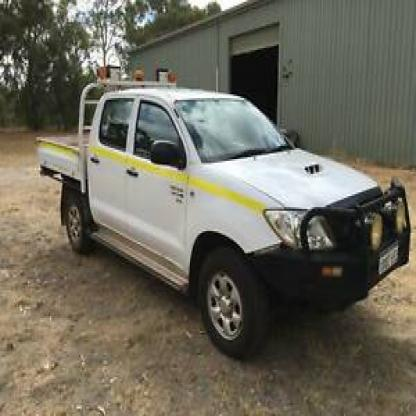light_vehicle: (36, 68, 406, 355)
